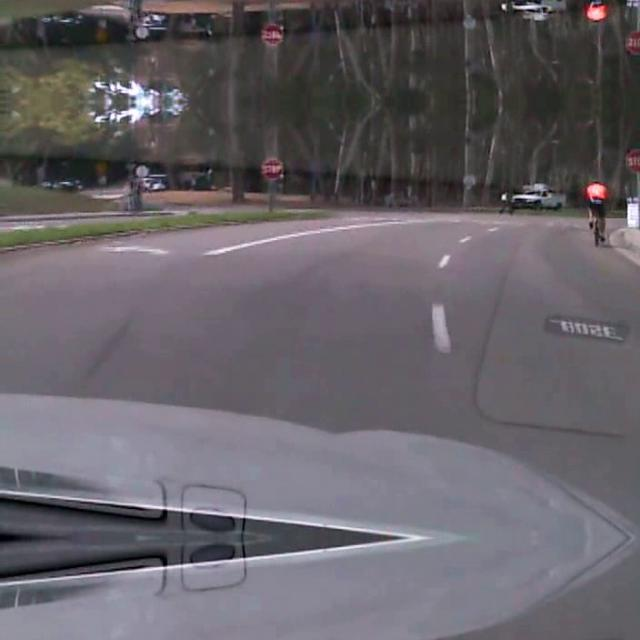stop: (260, 156, 282, 178), (260, 24, 282, 46)
